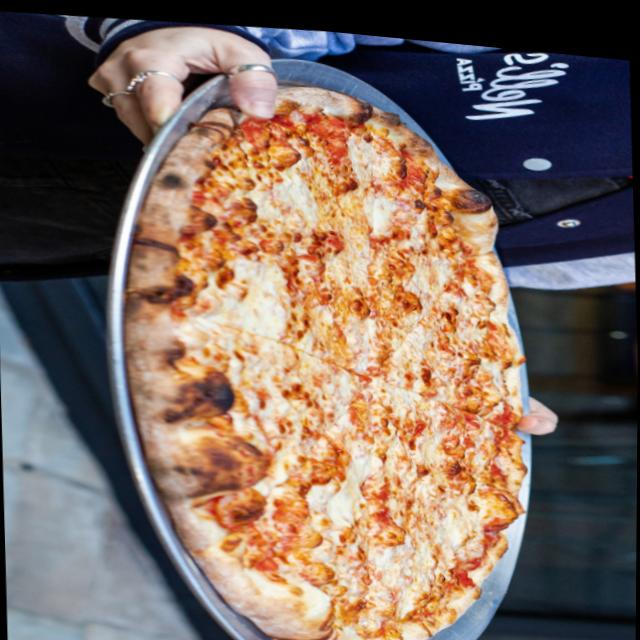pizza: (110, 58, 542, 640)
